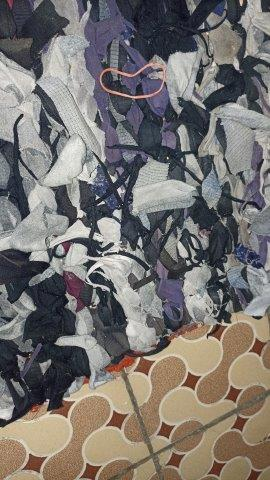karet: (99, 62, 168, 98)
